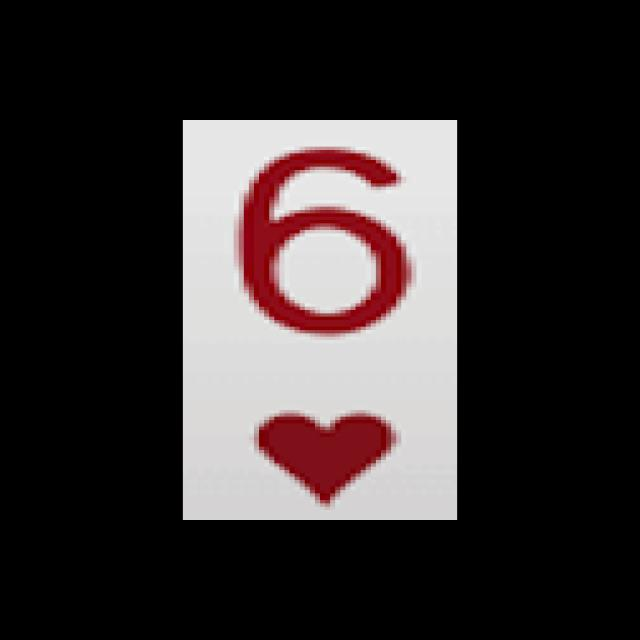6H: (211, 137, 426, 512)
